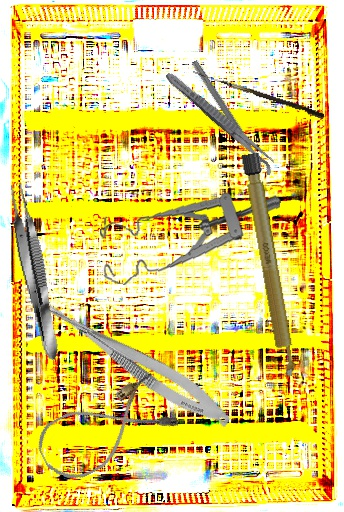Cannula: (29, 370, 182, 490)
Dressing Forceps: (162, 69, 278, 169)
Fixation Ring: (182, 57, 274, 184)
Hook Surgical: (190, 71, 326, 119)
Micro Scissor: (25, 288, 238, 434)
Scalpel Handle: (240, 152, 298, 379)
Speculum: (95, 180, 282, 298)
Tissue Forceps: (2, 181, 66, 363)
